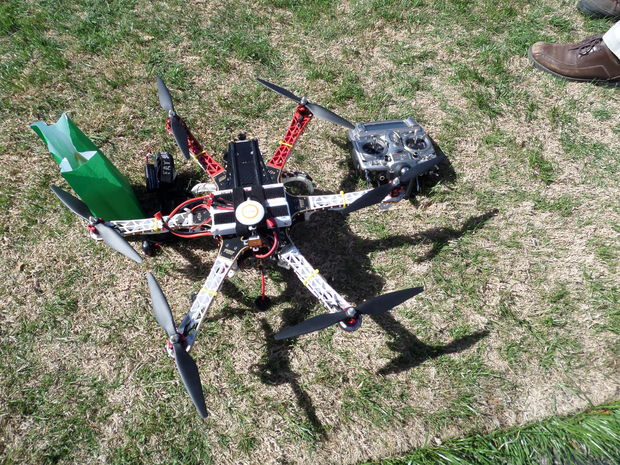drone: (49, 76, 449, 419)
shadow_of_drone: (167, 136, 502, 443)
